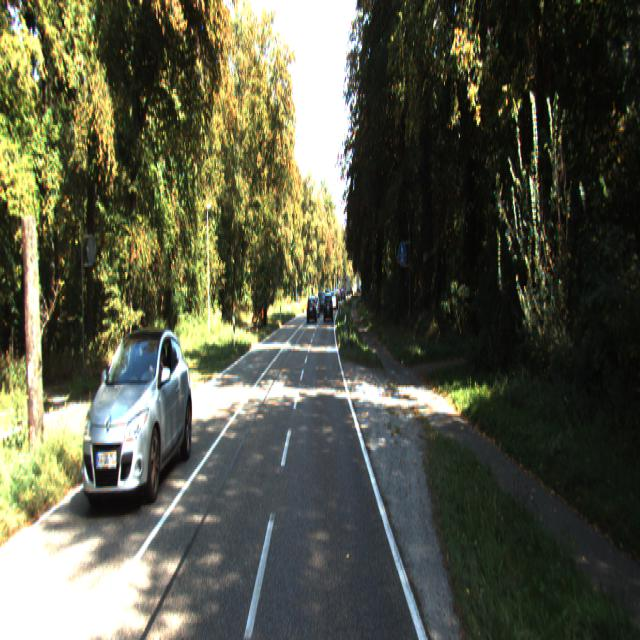Car: (79, 320, 195, 508)
